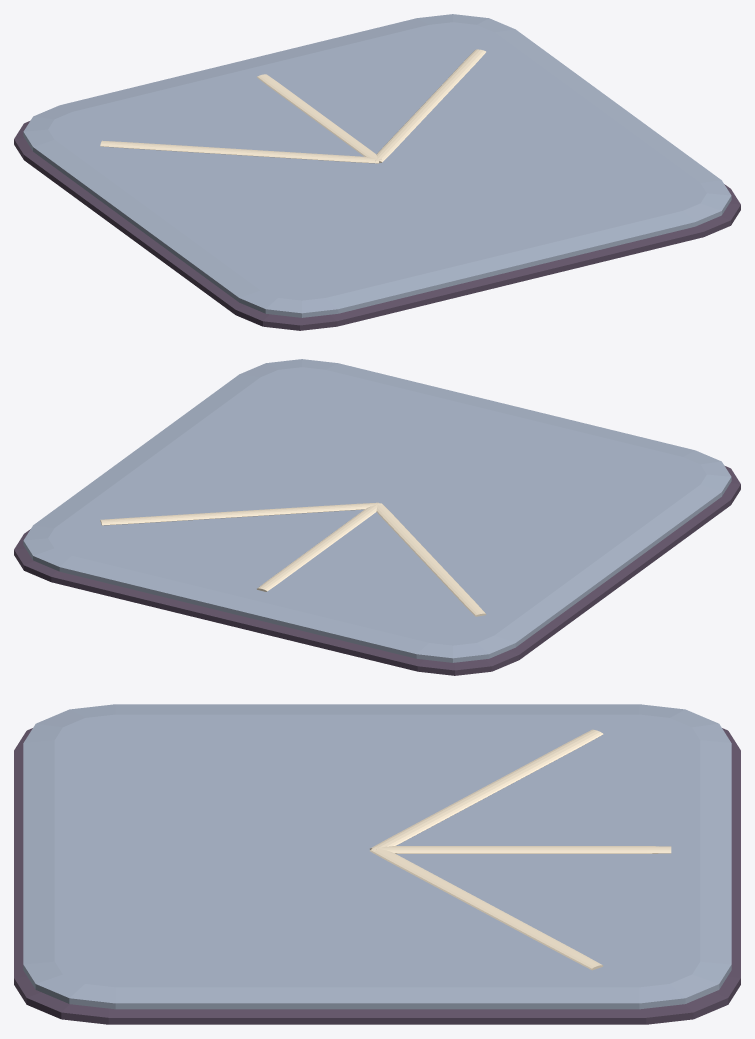
File: tile_merge.glb
The picture shows the model from 3 angles, top to bottom: view 1: azimuth 30°, elevation 25°; view 2: azimuth 150°, elevation 25°; view 3: azimuth 270°, elevation 25°; orthographic projection. The views are drawn at different scales.
Parts seen in each view (by area): view 1: model; view 2: model; view 3: model.
Boxes of the visible parts, bbox=[...] form: model: bbox=[14, 14, 740, 330]; model: bbox=[14, 359, 740, 675]; model: bbox=[14, 704, 740, 1024].
Bounding box in the file's own units: 3 × 0.12 × 3.
